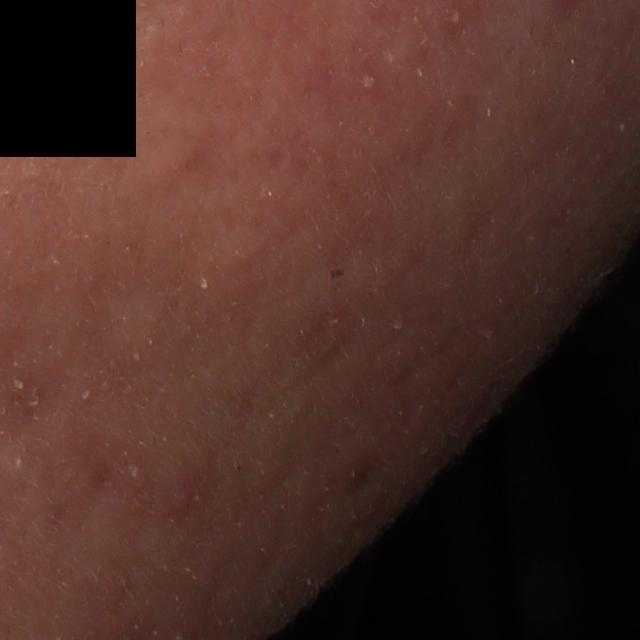papule: (164, 476, 201, 520)
pustule: (354, 70, 383, 96)
